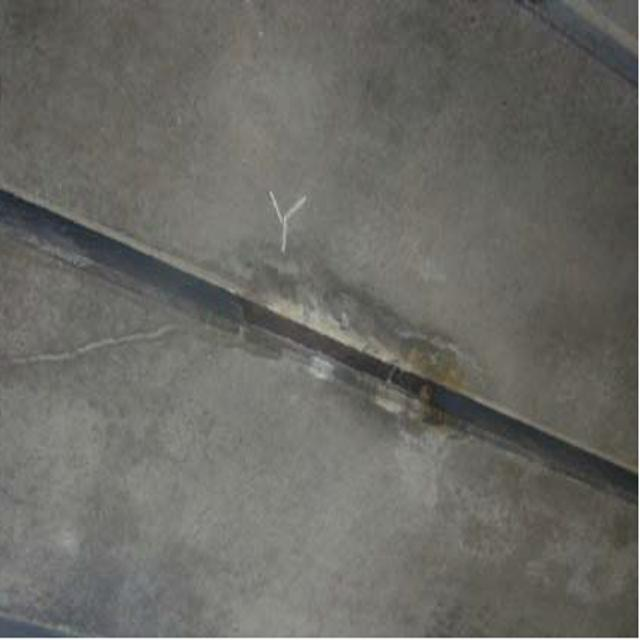freelime: (257, 274, 443, 434)
